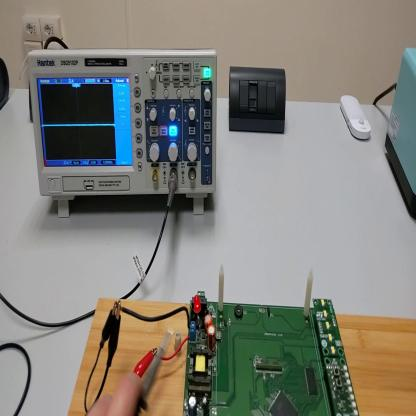hand: (85, 367, 145, 414)
low voltage board: (117, 266, 360, 416)
oscilloscope: (29, 47, 220, 219)
oscilloscope probe tip: (130, 327, 168, 416)
socket: (2, 58, 11, 117)
welder station: (385, 50, 416, 219)
working area: (68, 299, 415, 415)
